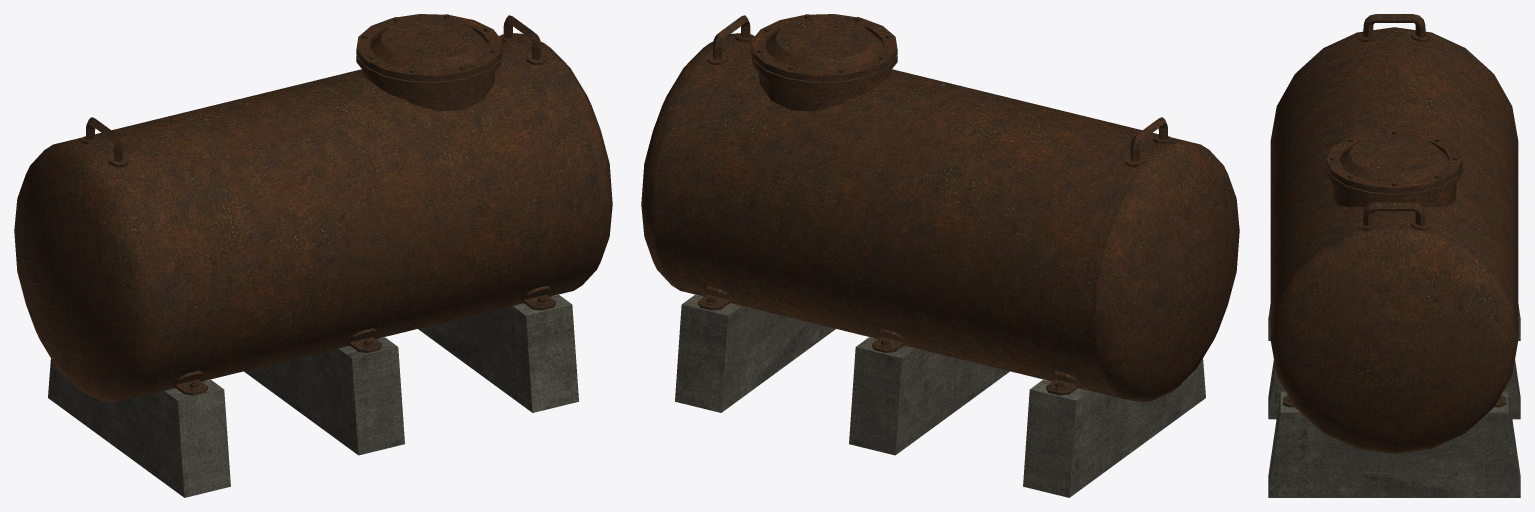
The model's file is tank_mx_1.fbx.
3 renders of one model, left to right at view 1: azimuth 30°, elevation 25°; view 2: azimuth 150°, elevation 25°; view 3: azimuth 270°, elevation 25°, orthographic. The views are drawn at different scales.
Visible parts, largest first — view 1: tank_mx_1; view 2: tank_mx_1; view 3: tank_mx_1.
Boxes of the visible parts, x1=… form: tank_mx_1: x1=14, y1=14, x2=612, y2=497; tank_mx_1: x1=641, y1=14, x2=1239, y2=497; tank_mx_1: x1=1268, y1=14, x2=1520, y2=497.
Bounding box in the file's own units: 4.54 × 2.04 × 2.74.
